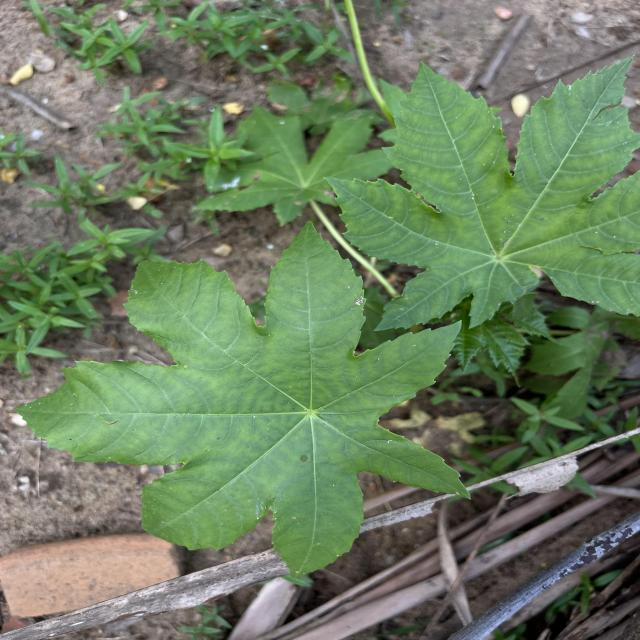Ricinus communis linn: (6, 216, 478, 583)
